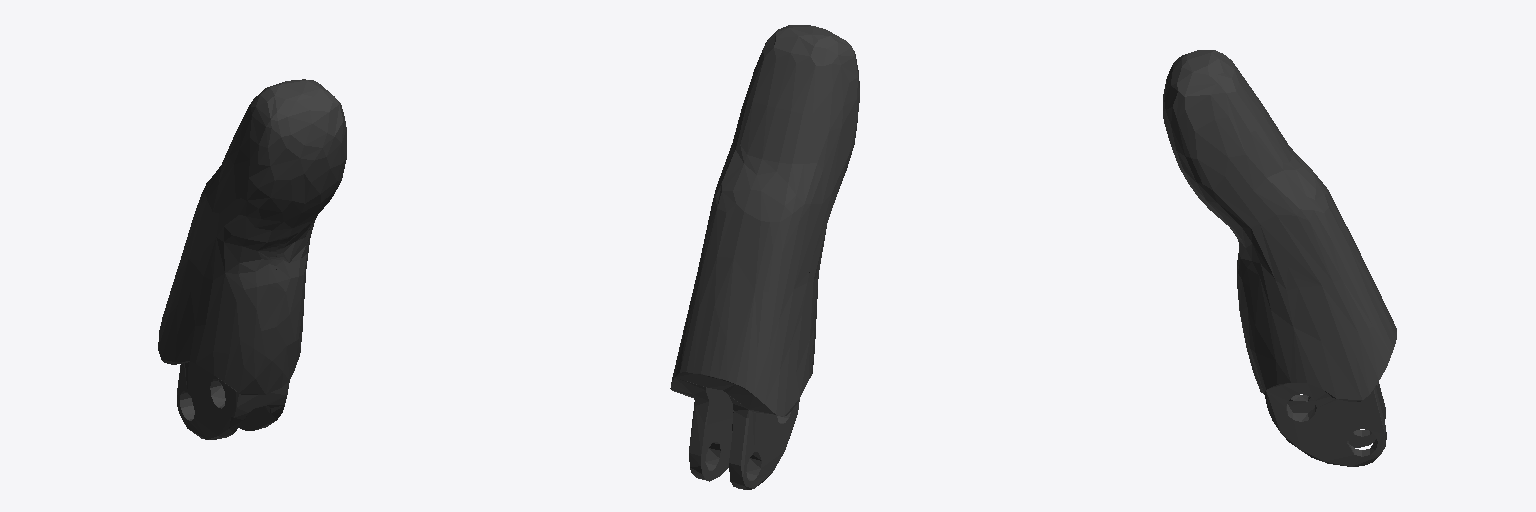
Rendered from R_pinky_distal.obj.
3 renders of one model, left to right at view 1: azimuth 30°, elevation 25°; view 2: azimuth 150°, elevation 25°; view 3: azimuth 270°, elevation 25°, orthographic.
Size of the model in its own units: 0.0126 by 0.0425 by 0.0227.